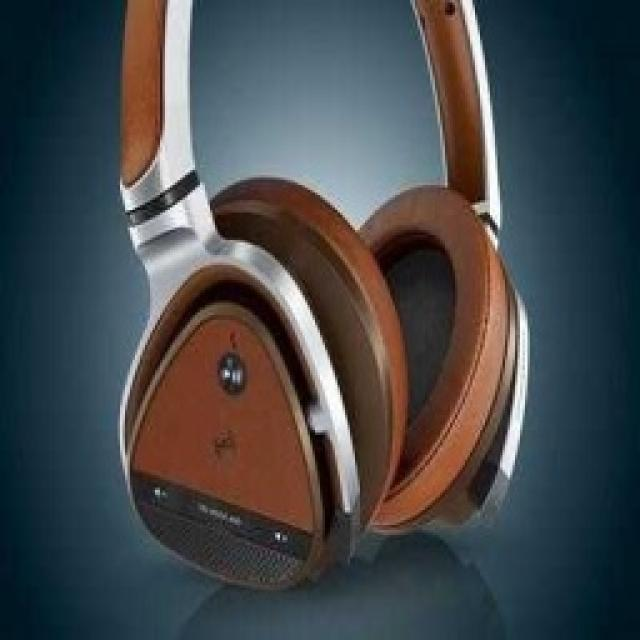headphones: (112, 0, 529, 592)
